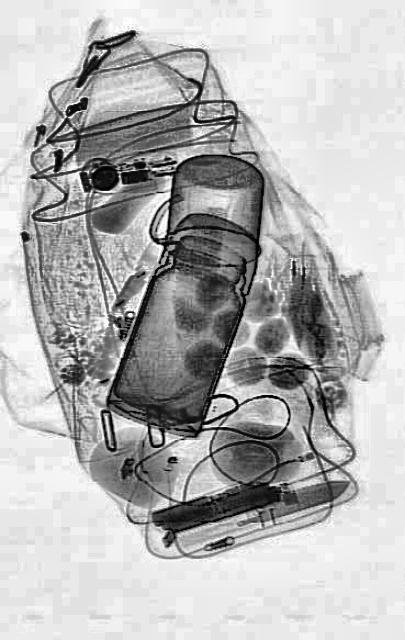Knife: (233, 471, 351, 533)
